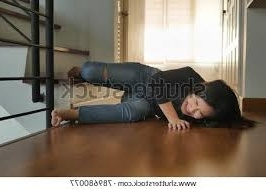fall: (47, 57, 250, 131)
